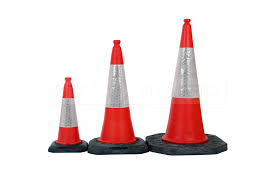cones: (151, 18, 228, 156), (89, 40, 150, 154), (32, 73, 86, 152)
